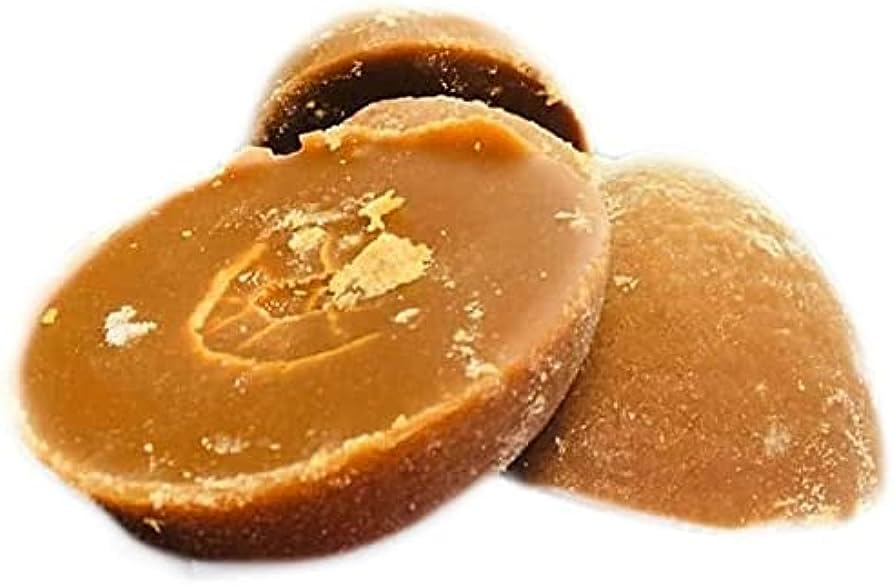hakuru: (9, 94, 616, 567), (510, 149, 886, 531), (234, 2, 590, 154)
